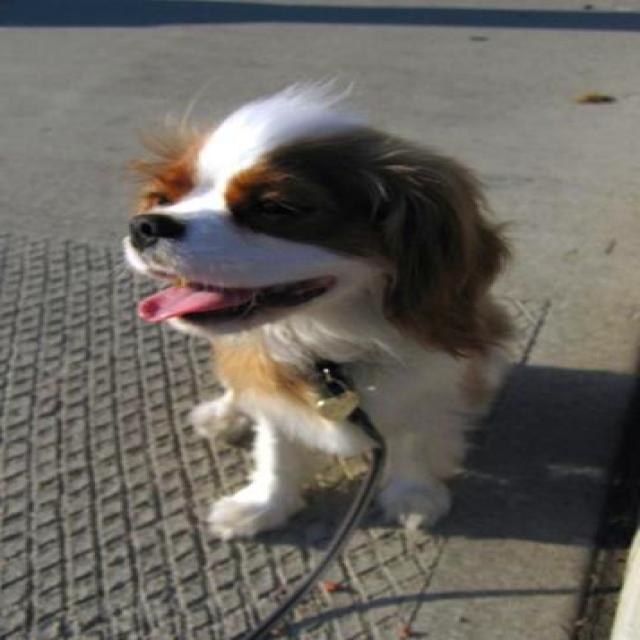blenheim_spaniel: (120, 74, 509, 554)
